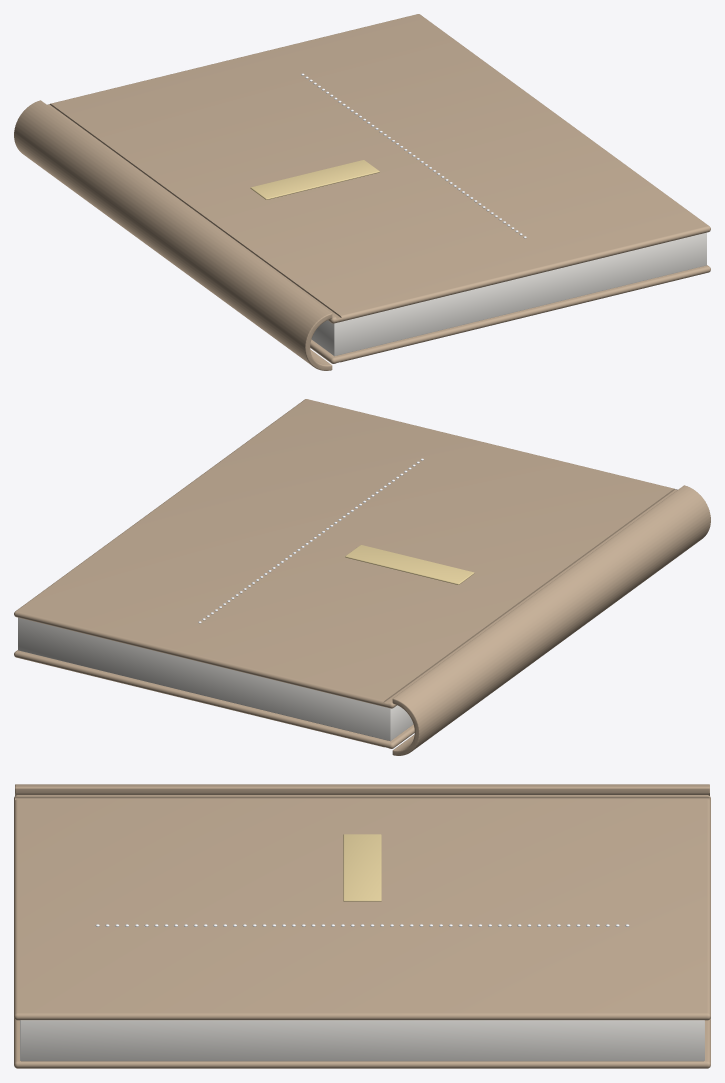
The model's file is swarovski-line--portrait.glb.
3 views of the same model, one above another, from view 1: azimuth 30°, elevation 25°; view 2: azimuth 150°, elevation 25°; view 3: azimuth 270°, elevation 25° (orthographic). The views are drawn at different scales.
Parts seen in each view (by area): view 1: CoverFront, Spine, Pages, CoverBack, Plate; view 2: CoverFront, Spine, Pages, CoverBack, Plate; view 3: CoverFront, Pages, Spine, CoverBack, Plate, Crystal.
Boxes of the visible parts, x1=… form: CoverFront: x1=47, y1=14, x2=710, y2=323; Spine: x1=14, y1=100, x2=332, y2=370; Pages: x1=311, y1=232, x2=706, y2=356; CoverBack: x1=310, y1=265, x2=710, y2=363; Plate: x1=250, y1=160, x2=379, y2=199; CoverFront: x1=14, y1=399, x2=677, y2=708; Spine: x1=392, y1=485, x2=710, y2=755; Pages: x1=18, y1=617, x2=413, y2=741; CoverBack: x1=14, y1=650, x2=414, y2=748; Plate: x1=345, y1=545, x2=474, y2=584; CoverFront: x1=14, y1=795, x2=710, y2=1020; Pages: x1=20, y1=1020, x2=704, y2=1061; Spine: x1=15, y1=784, x2=709, y2=795; CoverBack: x1=14, y1=1018, x2=710, y2=1068; Plate: x1=343, y1=834, x2=381, y2=901; Crystal: x1=95, y1=924, x2=629, y2=926.
Size of the model in its own units: 0.3208 by 0.043 by 0.4.
